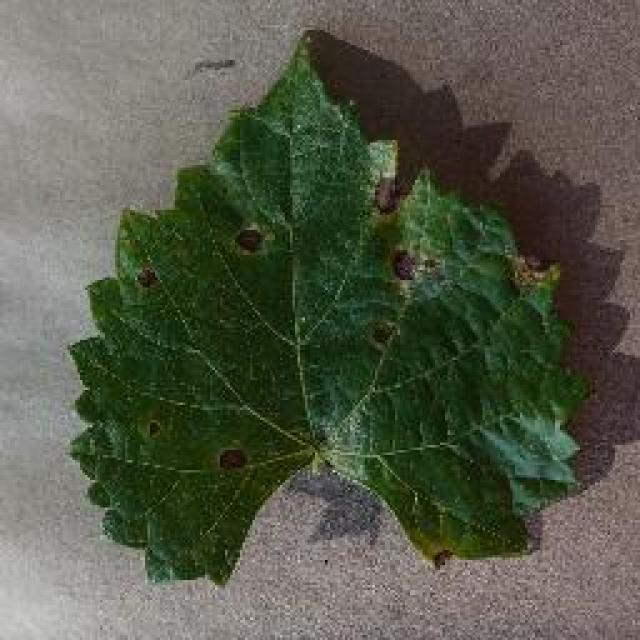Grape___Black_rot: (52, 24, 605, 597)
